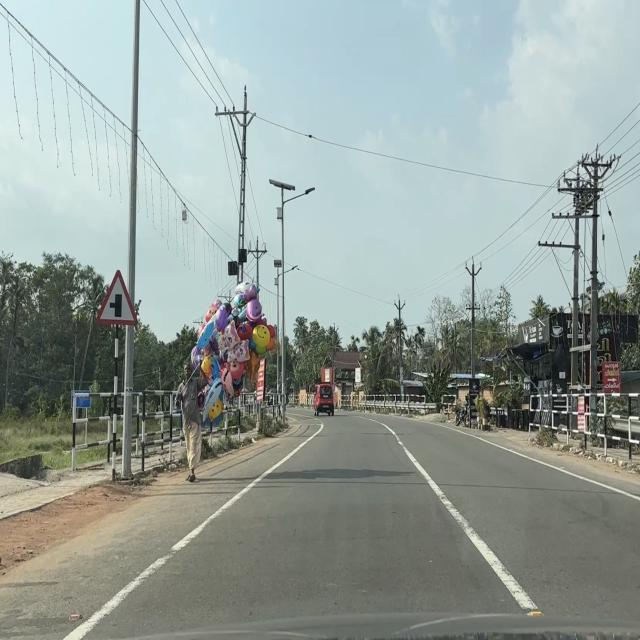SIDE_ROAD_LEFT: (95, 269, 139, 326)
